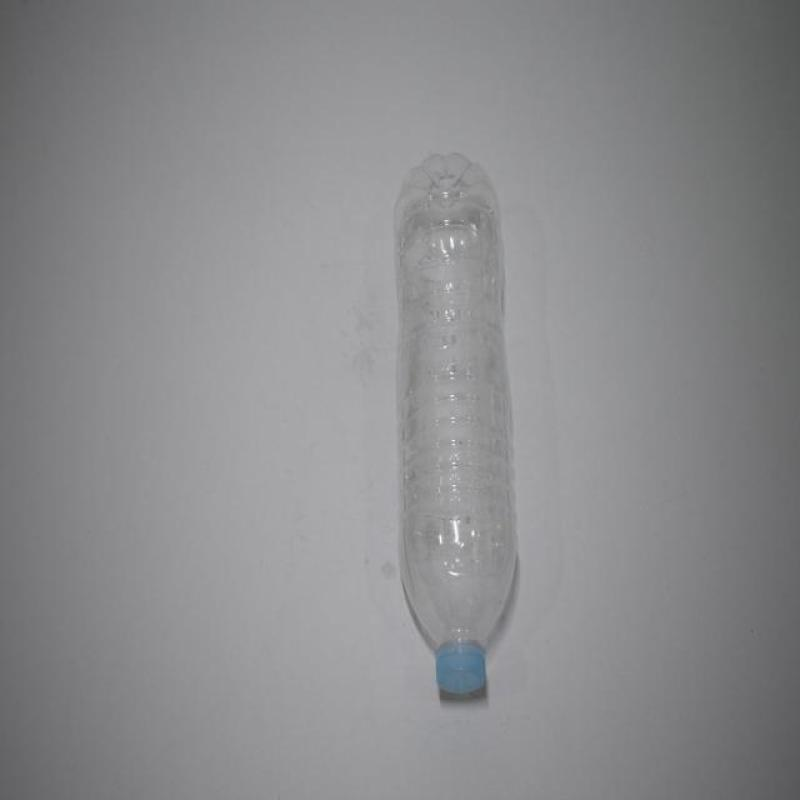botella: (391, 156, 521, 702)
